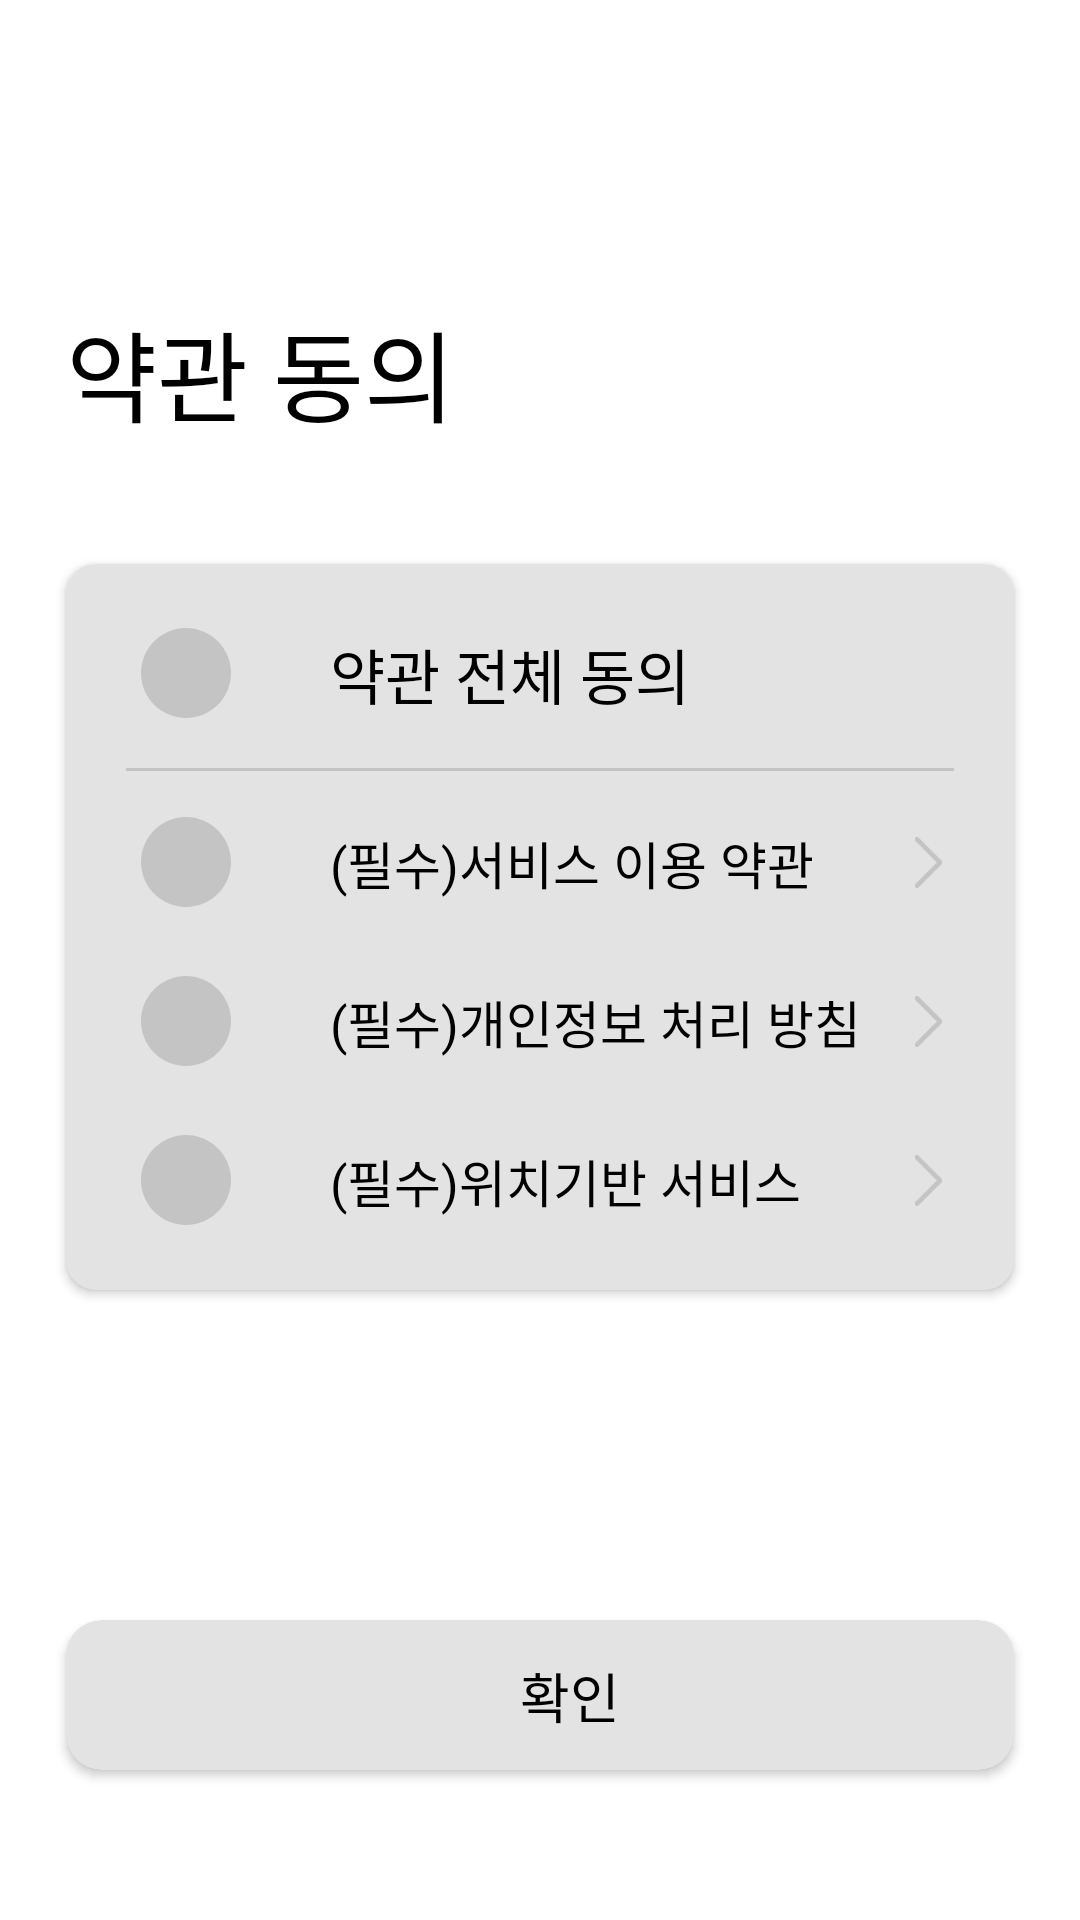

Locate icon controls on the screen. Image size 1080*1920, boxes as [x1=x1, y1=y1, x2=x2, y2=y2].
arrow right: [x1=915, y1=837, x2=942, y2=888], [x1=915, y1=996, x2=942, y2=1047], [x1=915, y1=1155, x2=942, y2=1206]
